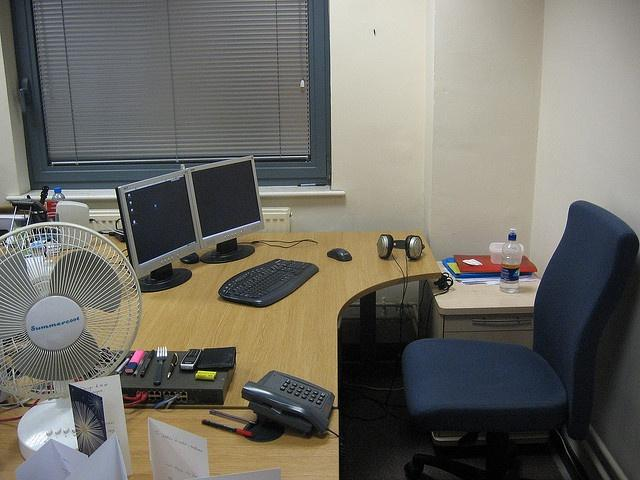AIO PC-Monitor-TV: (116, 168, 200, 291), (186, 154, 265, 264)
Kursi: (400, 199, 639, 478)
